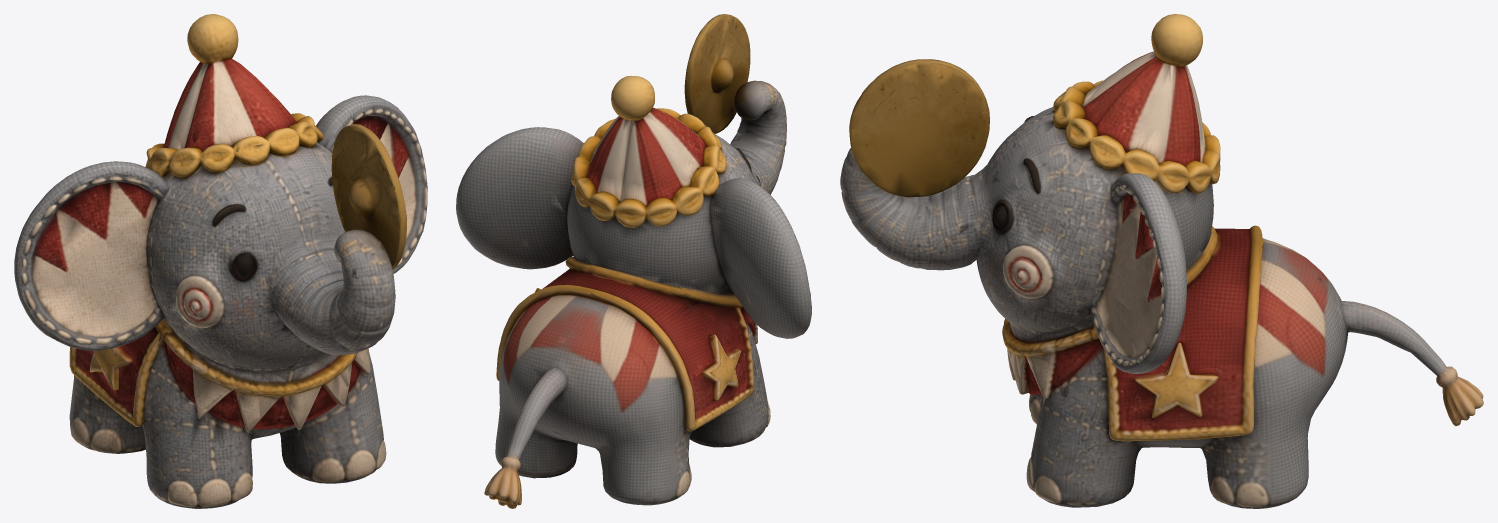
The model's file is game.glb.
The picture shows the model from 3 angles, left to right: view 1: azimuth 30°, elevation 25°; view 2: azimuth 150°, elevation 25°; view 3: azimuth 270°, elevation 25°; orthographic projection. The views are drawn at different scales.
Visible parts, largest first — view 1: Mesh_0; view 2: Mesh_0; view 3: Mesh_0.
Part boxes in pixels (box(x1,y1,x2,y2)): Mesh_0: box(14, 14, 427, 508); Mesh_0: box(456, 14, 811, 508); Mesh_0: box(840, 14, 1483, 508).
Size of the model in its own units: 0.9757 by 1 by 1.31.
1 material, 1 textured.
